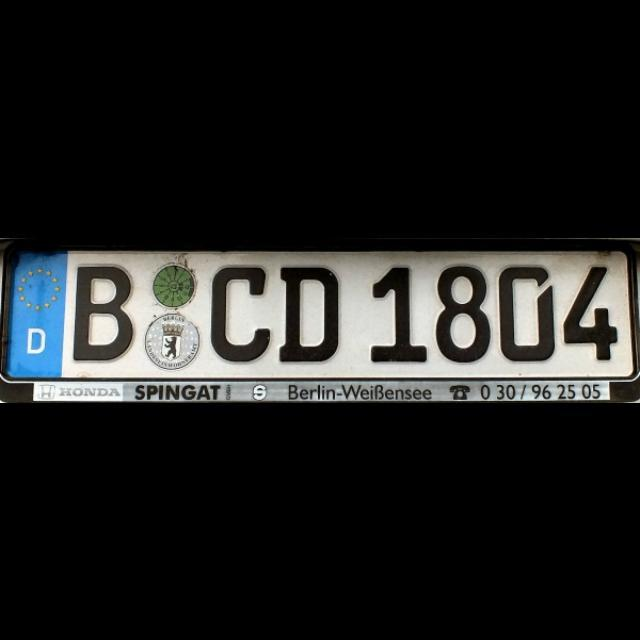license-plates: (4, 249, 640, 381)
